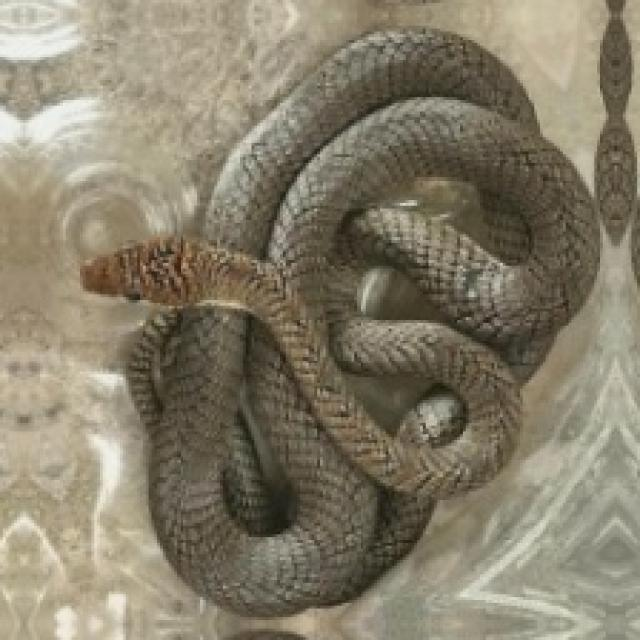paradise tree snake: (83, 29, 594, 614)
